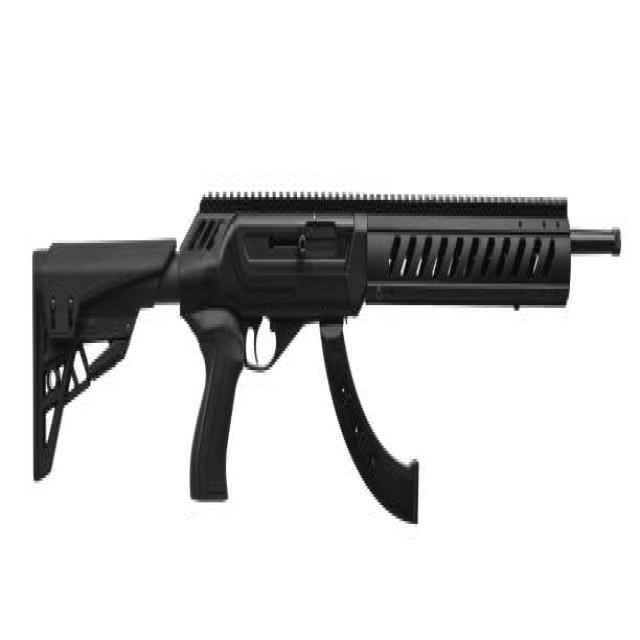rifle: (25, 172, 629, 545)
